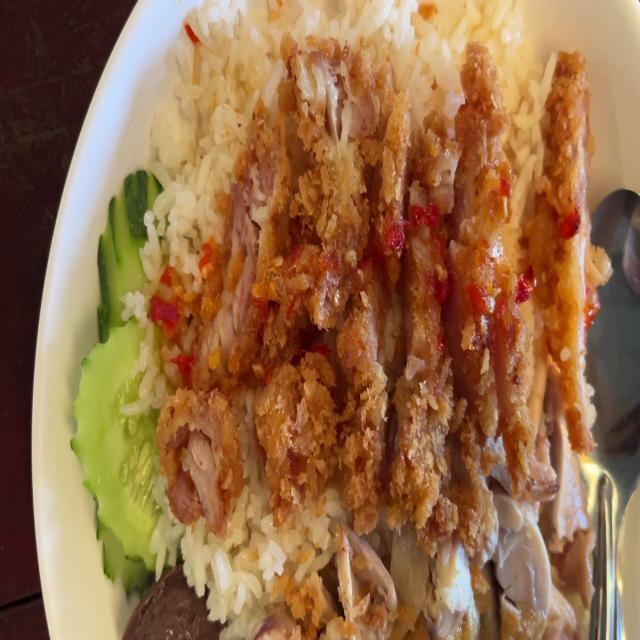chicken_rice: (276, 494, 568, 640)
noodle: (124, 557, 226, 640)
